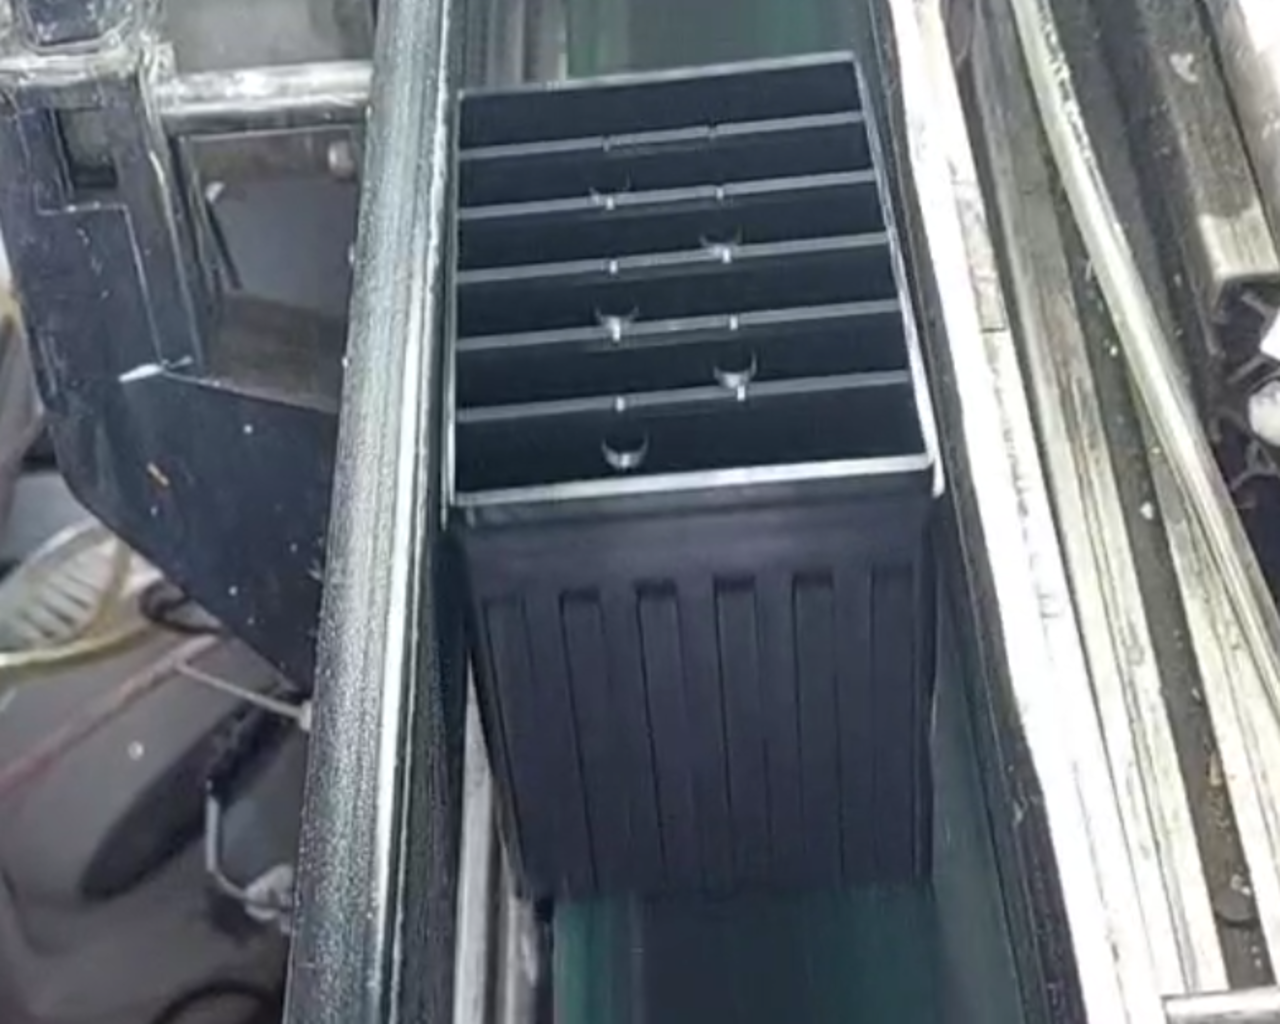box: (431, 39, 957, 550)
round: (693, 330, 770, 394), (590, 413, 660, 476), (686, 198, 750, 259), (581, 278, 648, 335), (578, 156, 642, 212)
